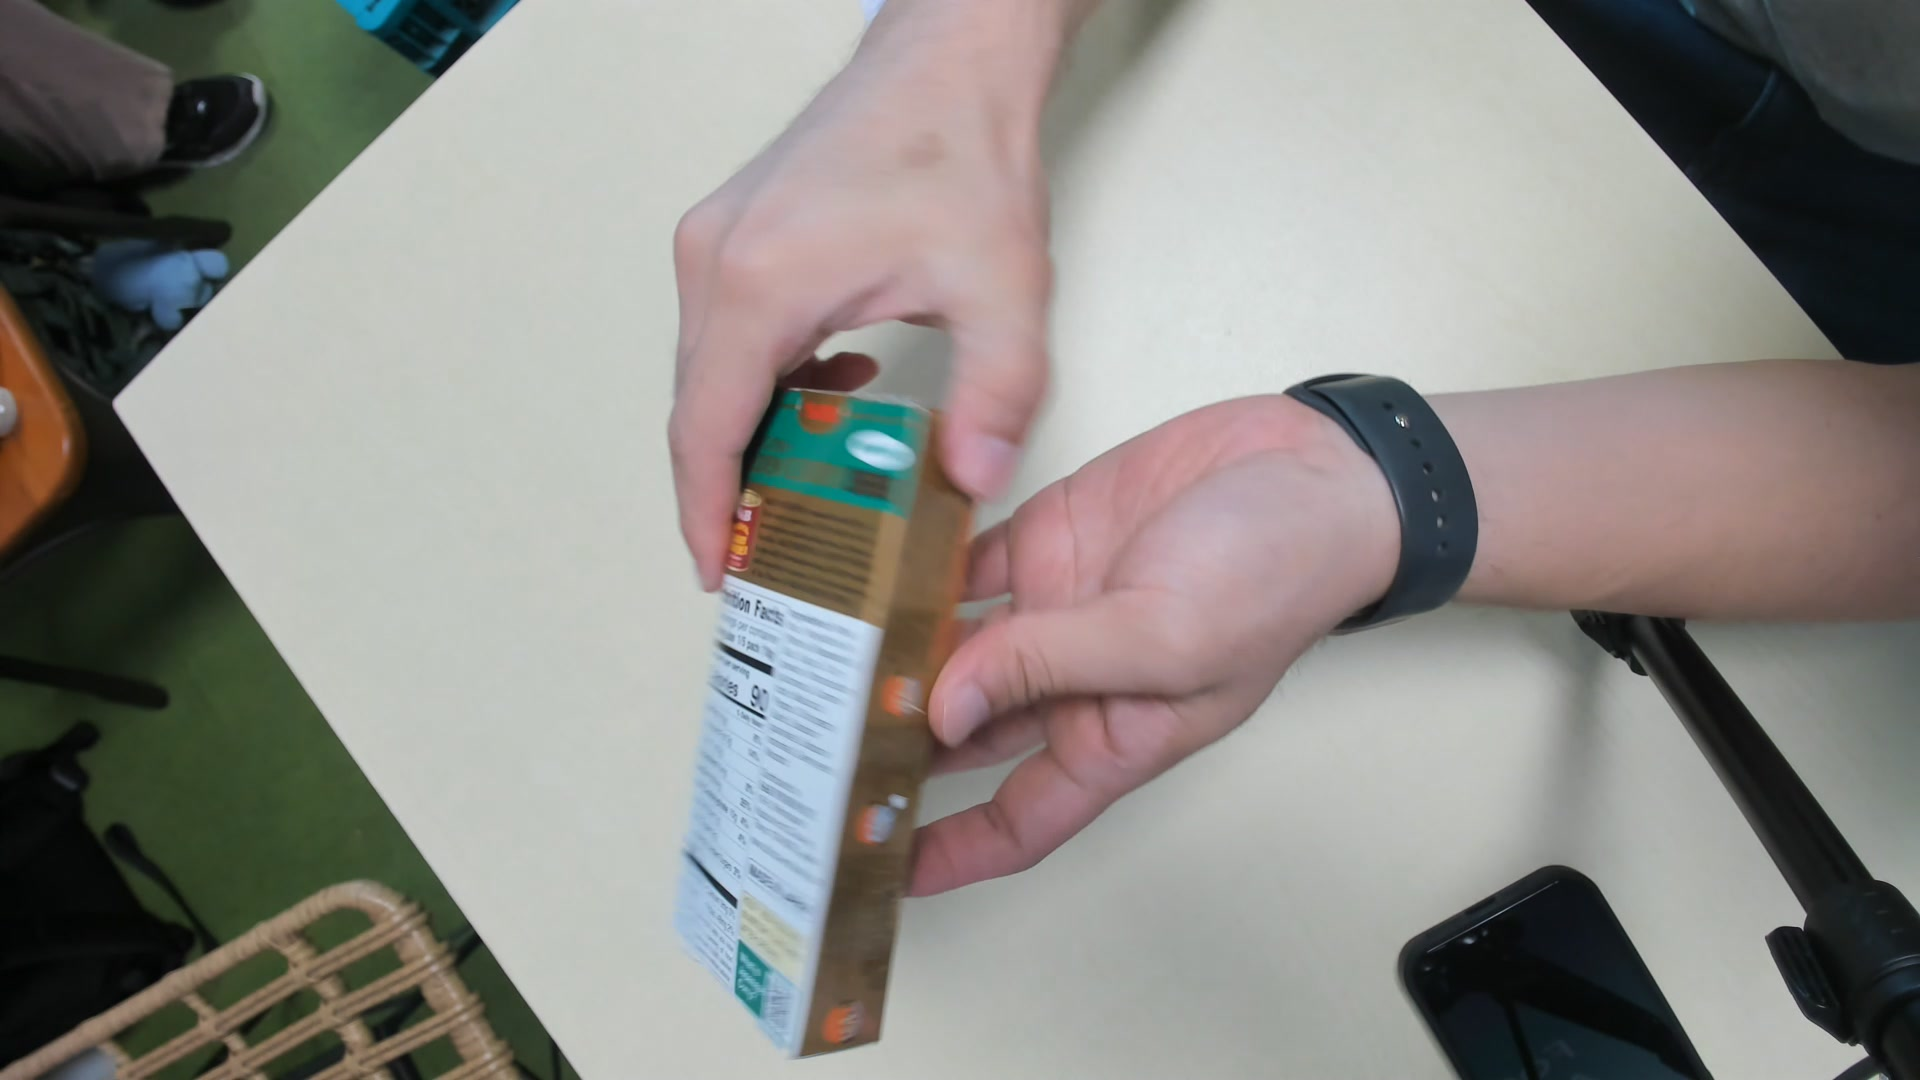OtherSauceDressing_0-99g_NonHalal_NonHealthy: (673, 382, 975, 1059)
